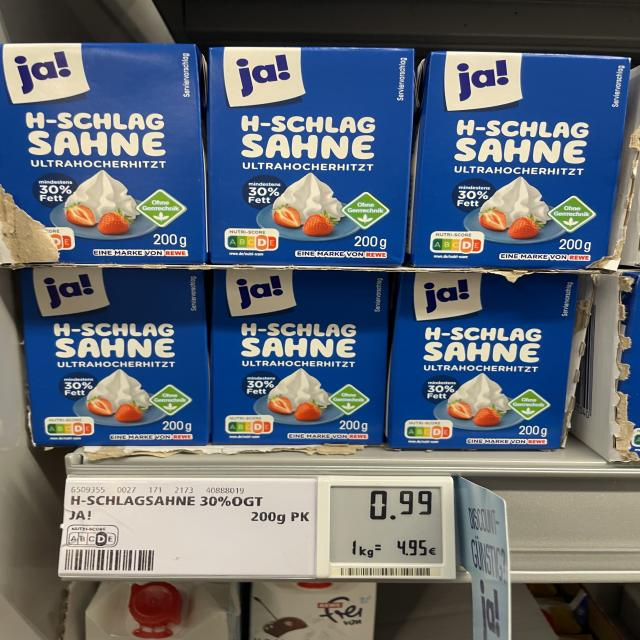Cream: (408, 50, 631, 269), (0, 42, 206, 264), (207, 46, 414, 266), (386, 272, 578, 450), (19, 267, 209, 446), (210, 269, 389, 445), (249, 583, 376, 640)
